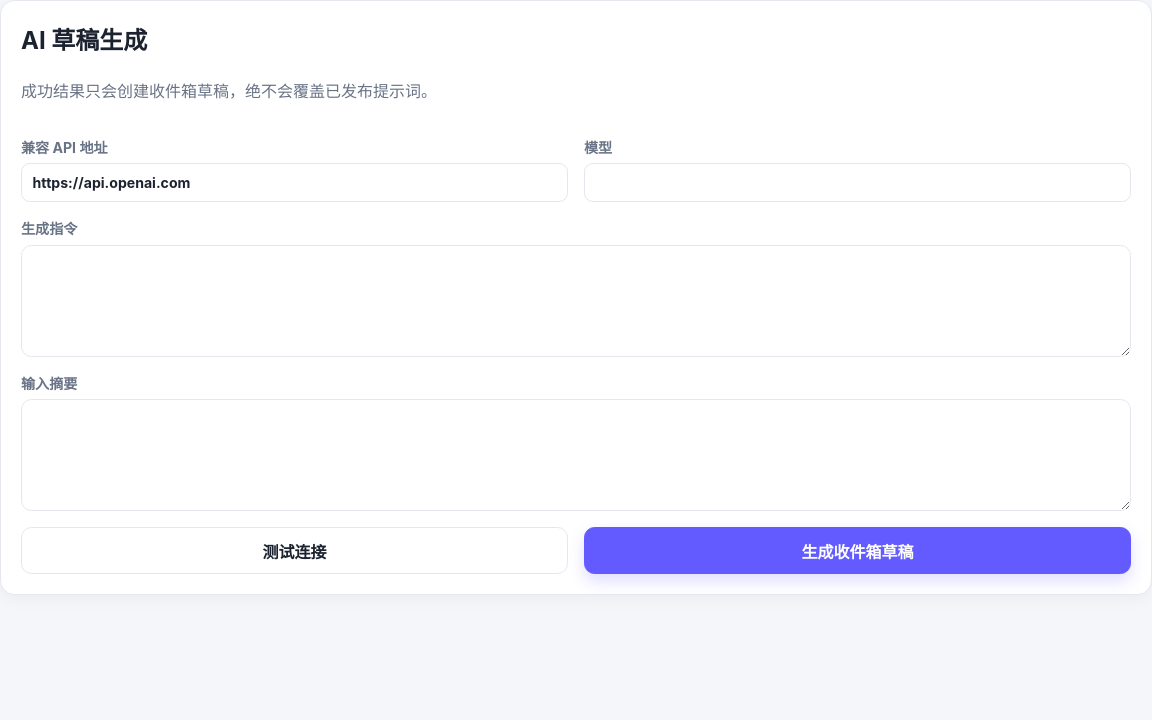
Test case: AiDraftGenerator › cancels the active generation while preserving the user's input
The image size is (1152, 720).
In the field labelled "模型": (858, 183) [584,163,1131,202], type "gpt-5"
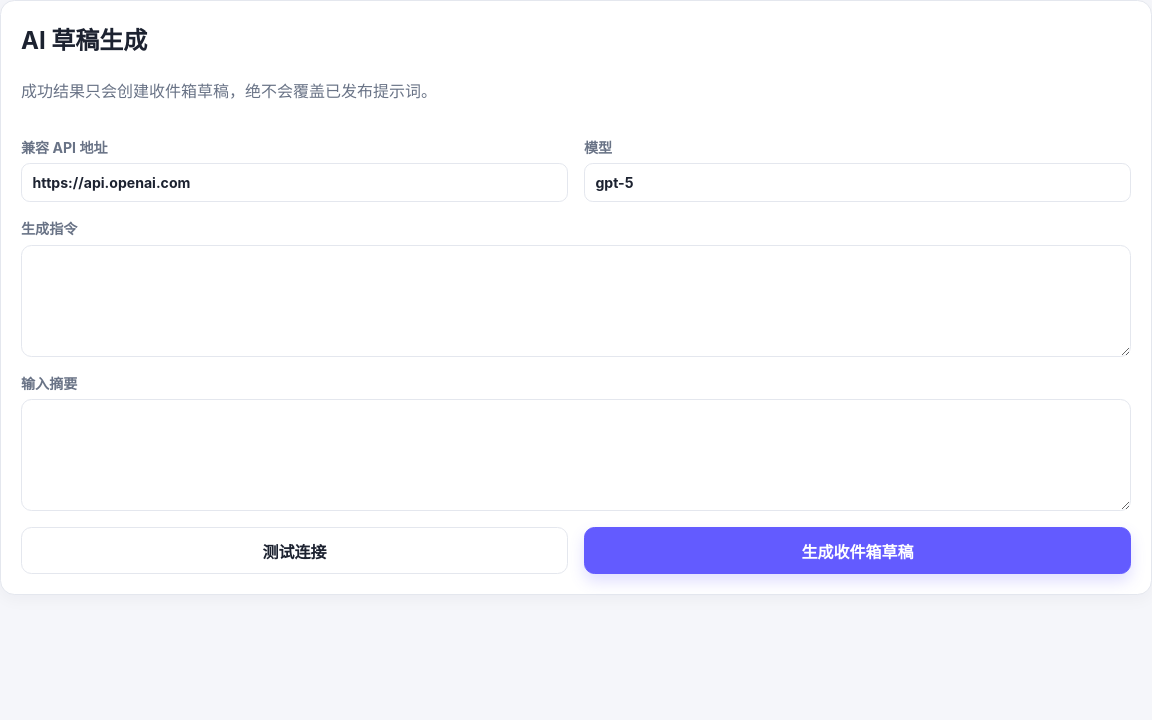
In the text box labelled "生成指令": (576, 301) [21,245,1131,357], type "优化提示词"
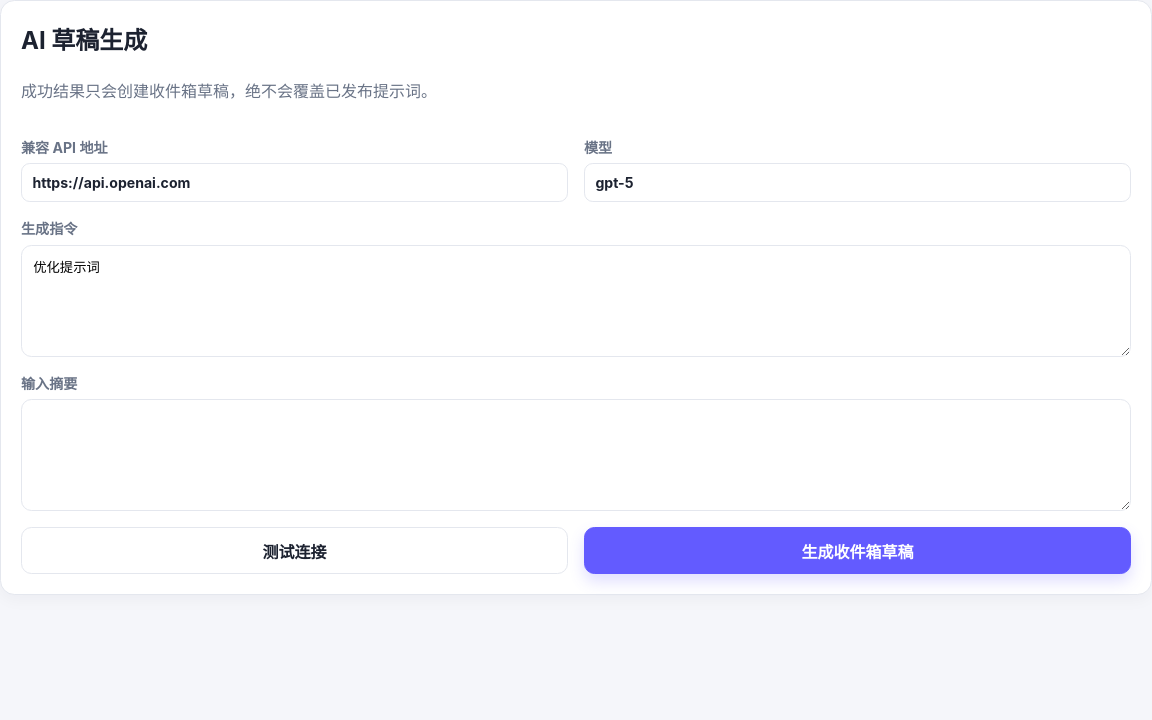
In the text box labelled "输入摘要": (576, 455) [21,399,1131,511], type "保留结构"
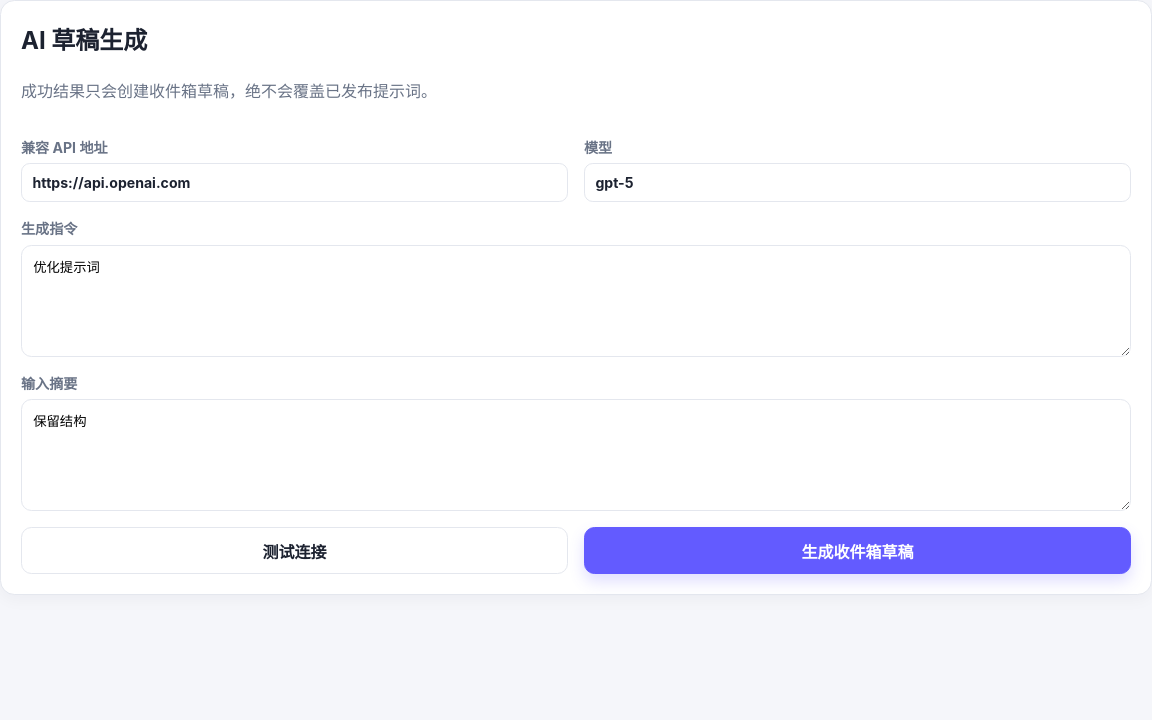
Click the button "生成收件箱草稿": (858, 550) [584,527,1131,574]
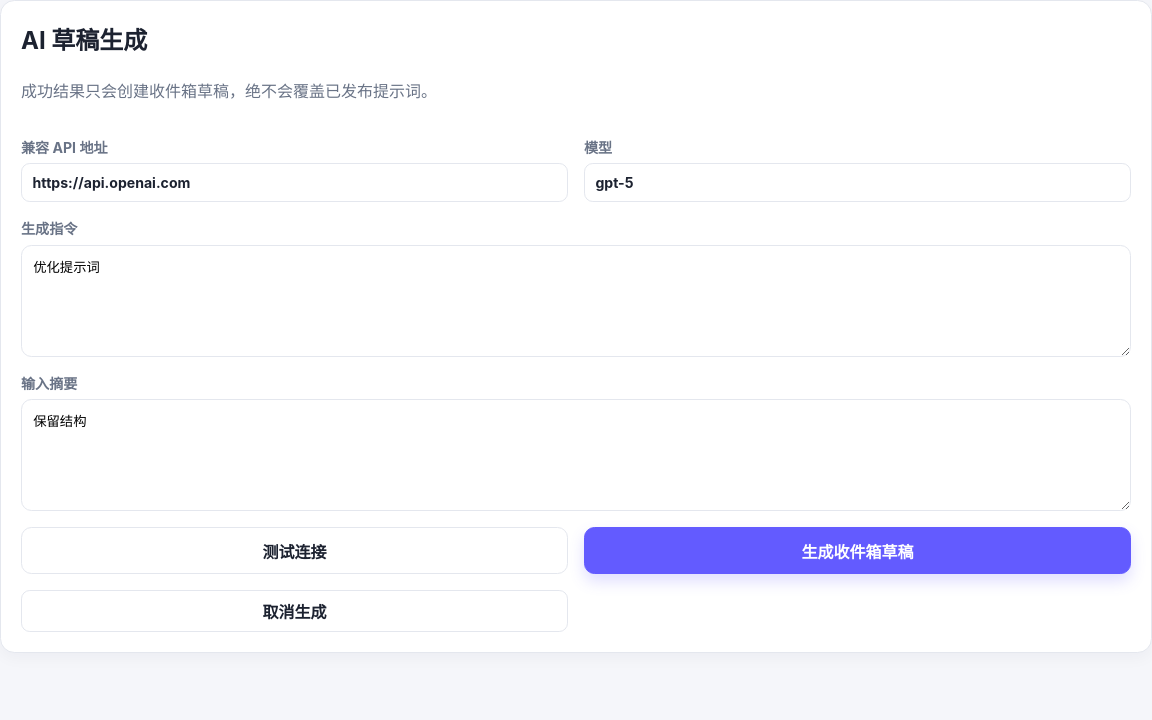
Click the button "取消生成": (294, 611) [21,590,568,632]
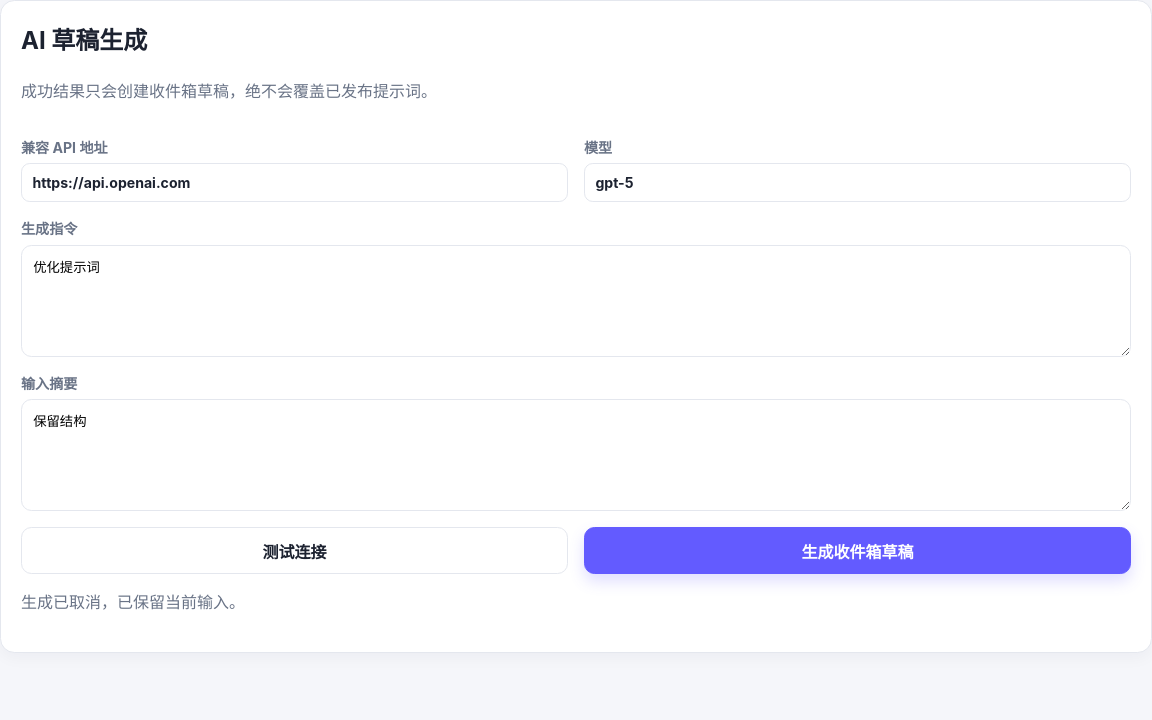
Expected: the message shows "生成已取消", [21,592,245,612]
